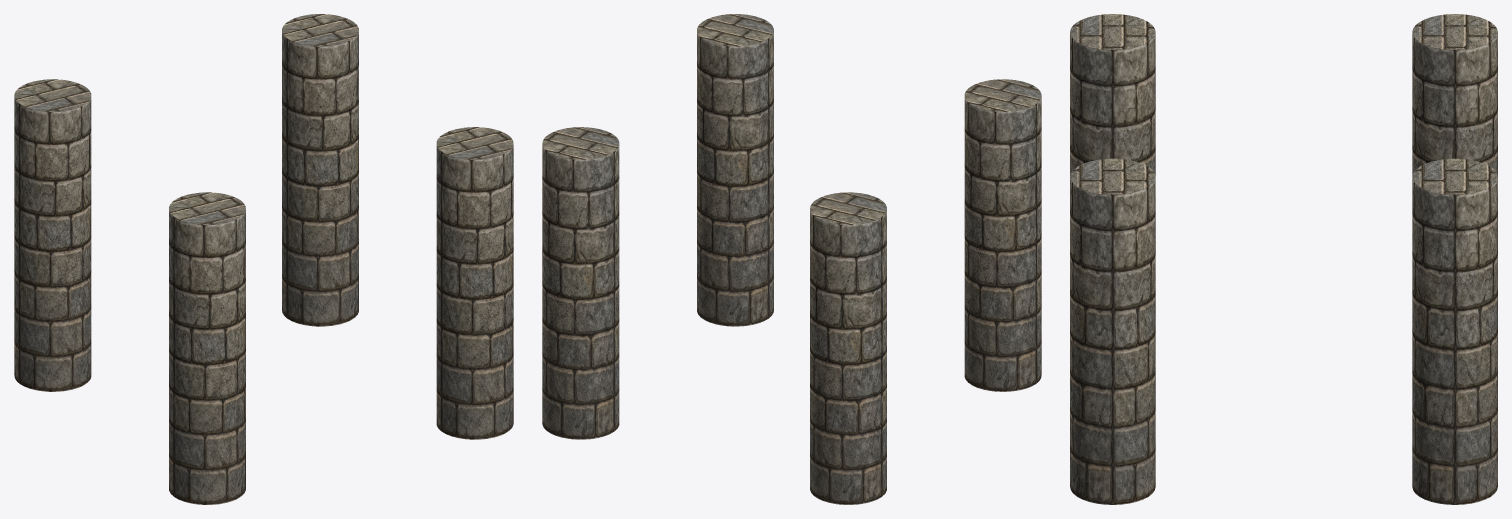
File: blk_pillars_dungeon.glb
3 views of the same model, side by side, from view 1: azimuth 30°, elevation 25°; view 2: azimuth 150°, elevation 25°; view 3: azimuth 270°, elevation 25° (orthographic). The views are drawn at different scales.
Parts seen in each view (by area): view 1: 4 pillars; view 2: 4 pillars; view 3: 4 pillars.
Part boxes in pixels (<box>): 4 pillars: <box>14,14,513,504</box>; 4 pillars: <box>542,14,1041,504</box>; 4 pillars: <box>1070,14,1497,504</box>.
Size of the model in its own units: 2.5 by 2 by 2.5.
Materials: 1 (1 with a texture image).
